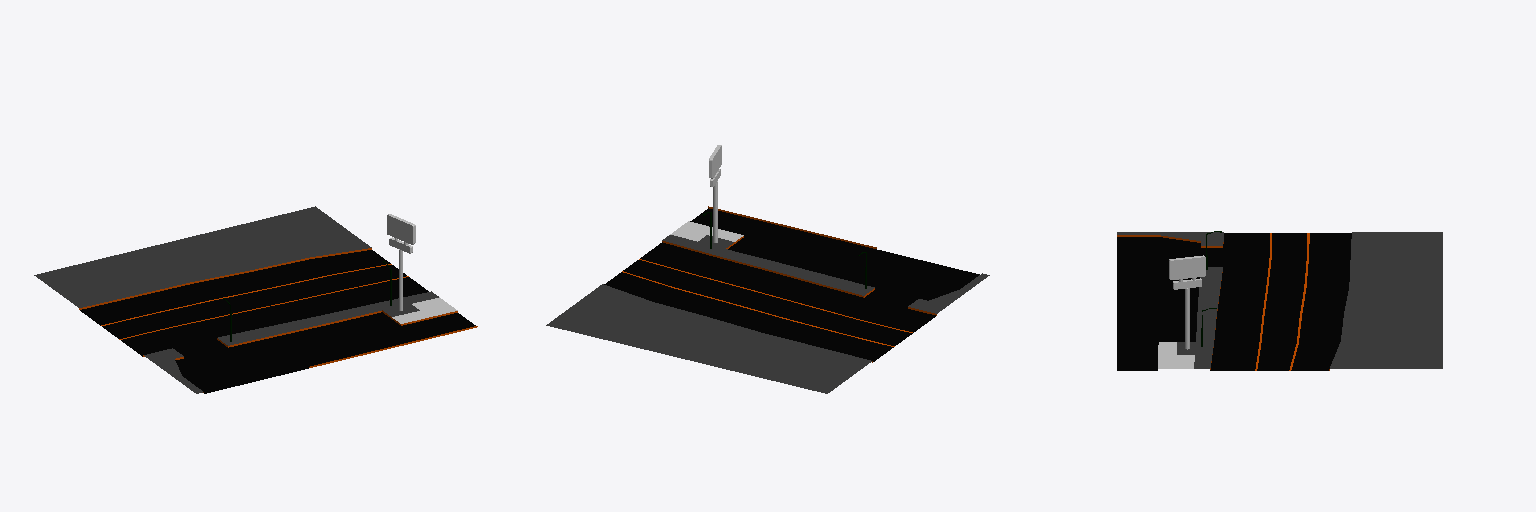
The model's file is 06_carls_s.obj.
The picture shows the model from 3 angles: view 1: azimuth 30°, elevation 25°; view 2: azimuth 150°, elevation 25°; view 3: azimuth 270°, elevation 25°; orthographic projection.
Visible parts, largest first — view 1: 06_carls_s_Grid.005; view 2: 06_carls_s_Grid.005; view 3: 06_carls_s_Grid.005.
Boxes of the visible parts, x1=… form: 06_carls_s_Grid.005: x1=34, y1=206, x2=477, y2=393; 06_carls_s_Grid.005: x1=546, y1=145, x2=989, y2=393; 06_carls_s_Grid.005: x1=1117, y1=231, x2=1442, y2=370.
Size of the model in its own units: 16 by 5.01 by 16.